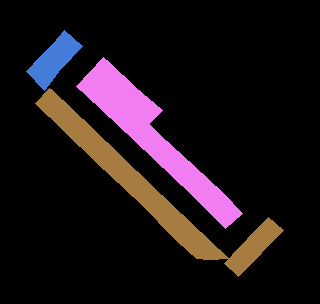parkingspot: (35, 88, 228, 259), (76, 70, 242, 228), (90, 57, 162, 125), (224, 217, 283, 276), (26, 30, 82, 90)
